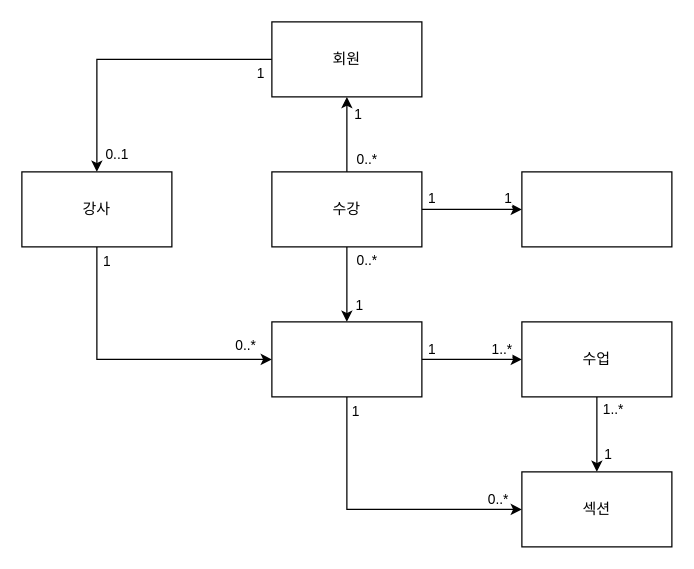
Some shapes in this 694 by 569 pixel diagram are drawn without their labels. Here are the shapes that lost their labels. From the top down, the centre of each, then its label:
At pixel 596 209: "진도".
At pixel 346 359: "강의".
